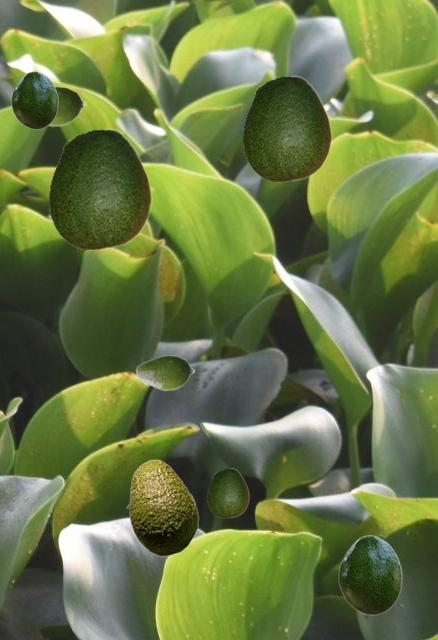avocado: (48, 128, 151, 249), (242, 75, 331, 181), (126, 459, 198, 555), (338, 535, 401, 614), (11, 71, 57, 128), (135, 354, 194, 390), (207, 468, 248, 517), (48, 85, 86, 126)
